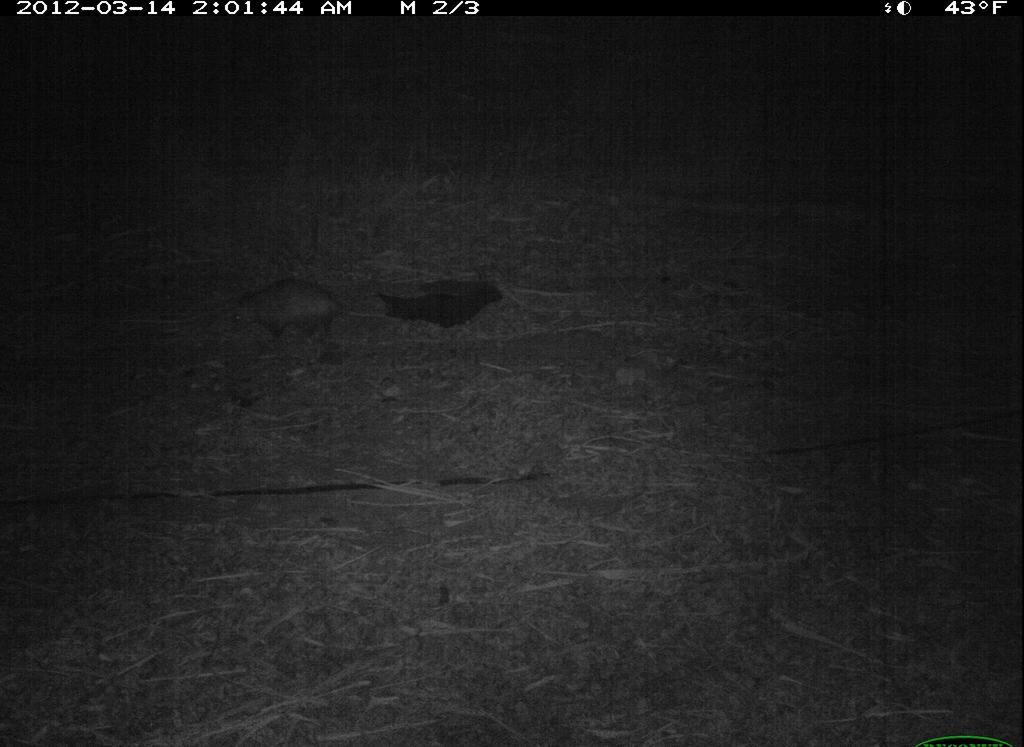opossum: (212, 280, 412, 356)
